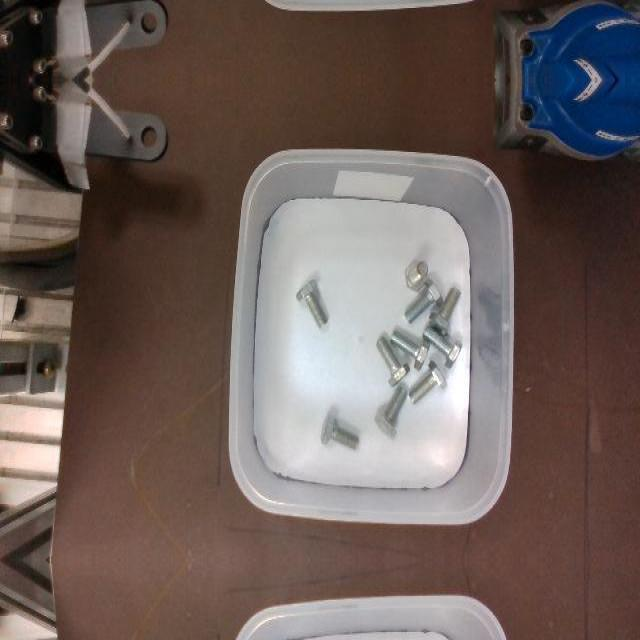screw: (404, 277, 443, 323), (409, 360, 448, 406), (376, 336, 411, 386), (375, 386, 408, 438), (422, 325, 462, 367), (389, 329, 429, 371), (295, 279, 327, 329), (429, 286, 461, 336), (320, 413, 358, 451), (404, 261, 428, 291)
